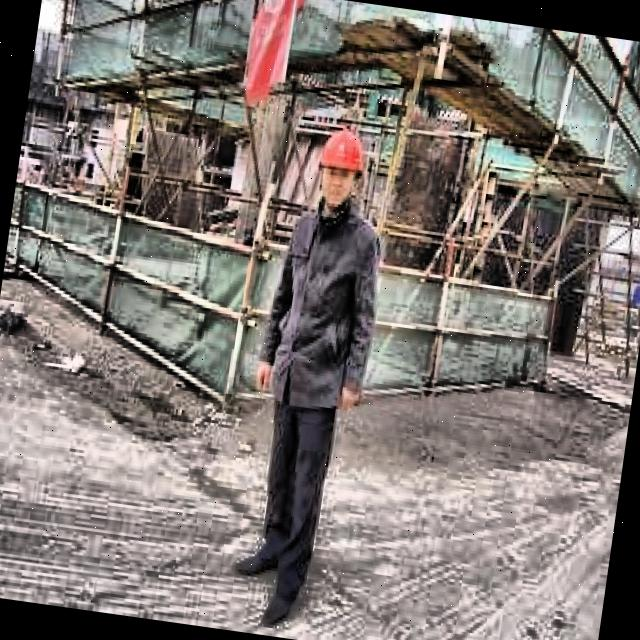helmet: (310, 120, 376, 210)
